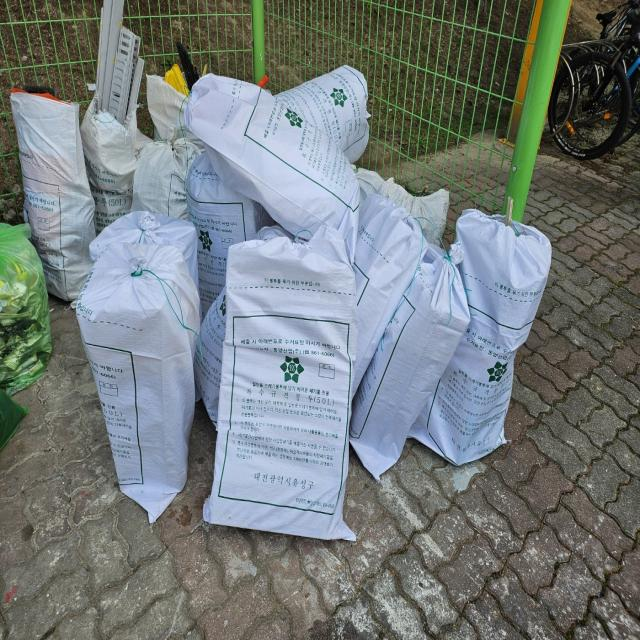General Waste: (0, 218, 60, 390)
PP bag: (219, 233, 358, 552), (418, 205, 563, 477), (180, 70, 372, 256), (78, 238, 202, 512), (354, 239, 476, 504), (186, 124, 274, 362), (6, 83, 88, 324), (64, 69, 151, 257), (263, 55, 393, 169), (125, 118, 210, 242)
